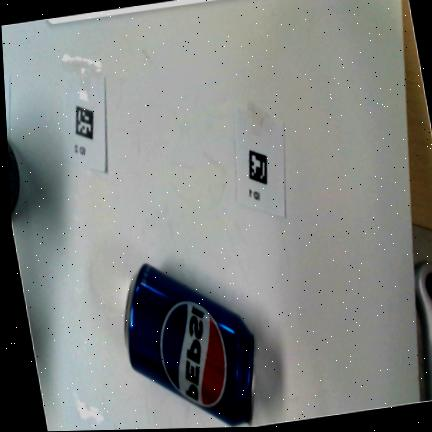can_pepsi: (125, 263, 255, 424)
